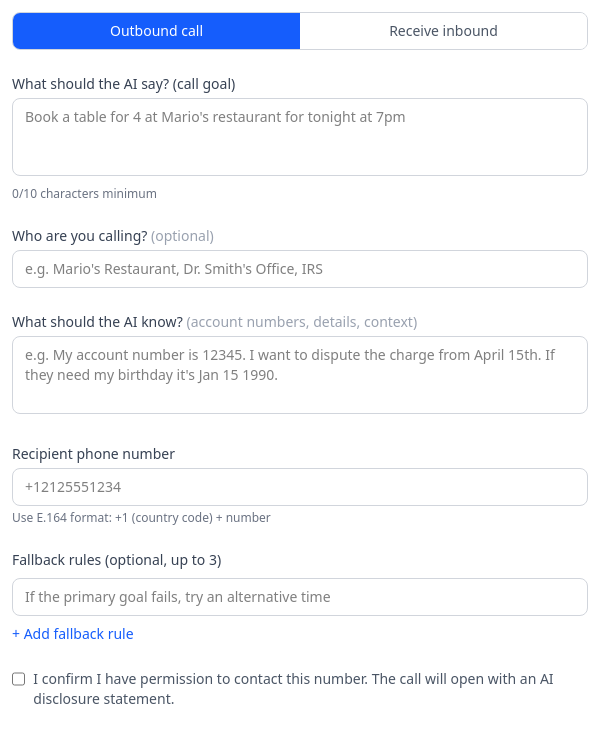
Test: IntentForm (INTENT-01, INTENT-02, INTENT-04) › shows E.164 validation error for improperly formatted phone number (INTENT-02)
This screenshot has width=605, height=732.
Type "5551234" into the field labelled "Recipient phone number".
click(300, 487); type("5551234")  # box [12,468,588,506]
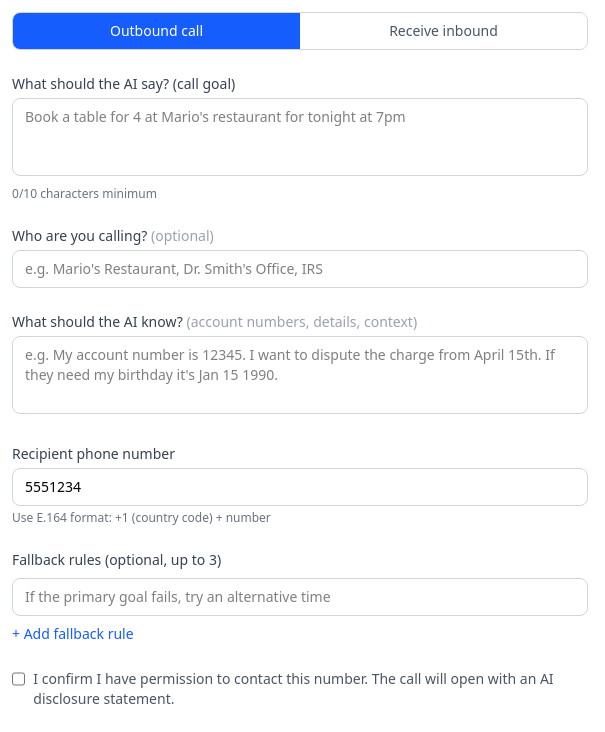
Leave the field labelled "Recipient phone number", box [12,468,588,506]
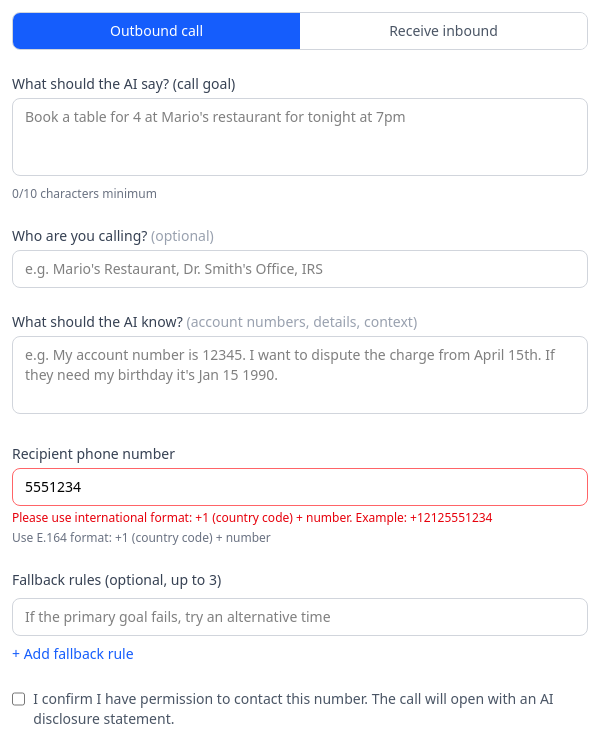
Check: the text "international format" is shown, box [12,509,492,526]
